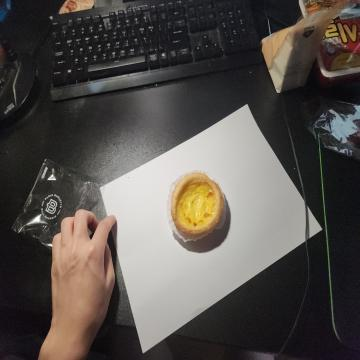EggTart: (170, 173, 224, 239)
